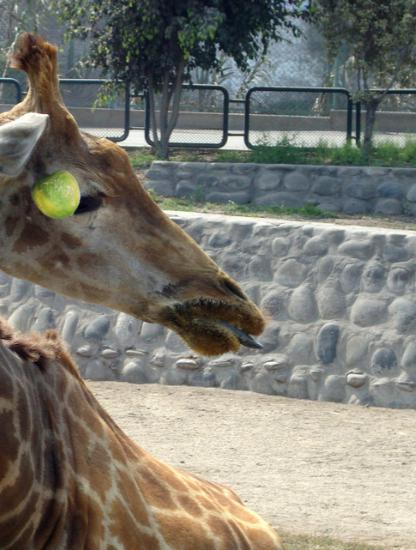Limes: (32, 170, 83, 221)
